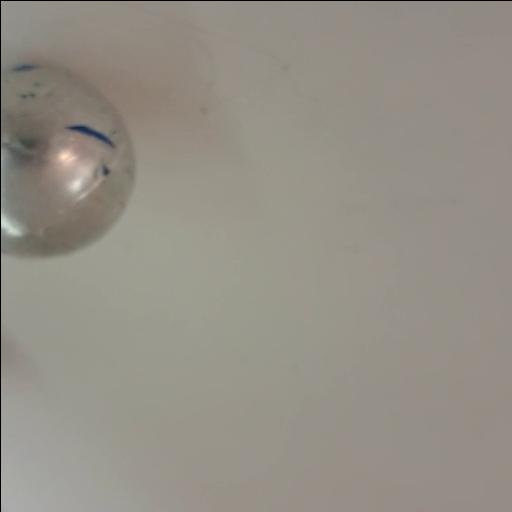alive: (0, 58, 143, 262)
